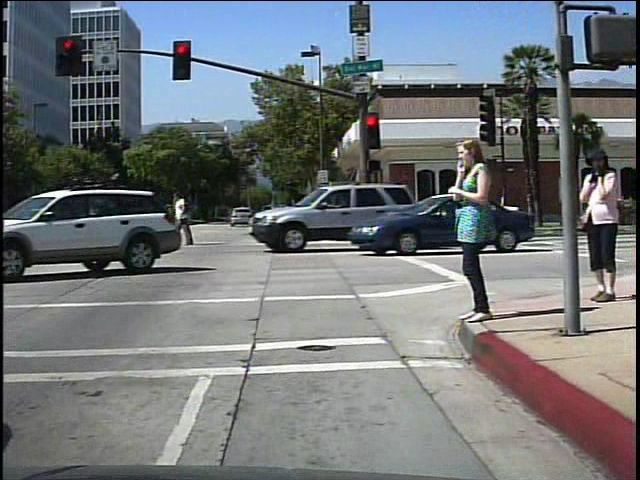person: (447, 129, 502, 324), (573, 141, 621, 309)
